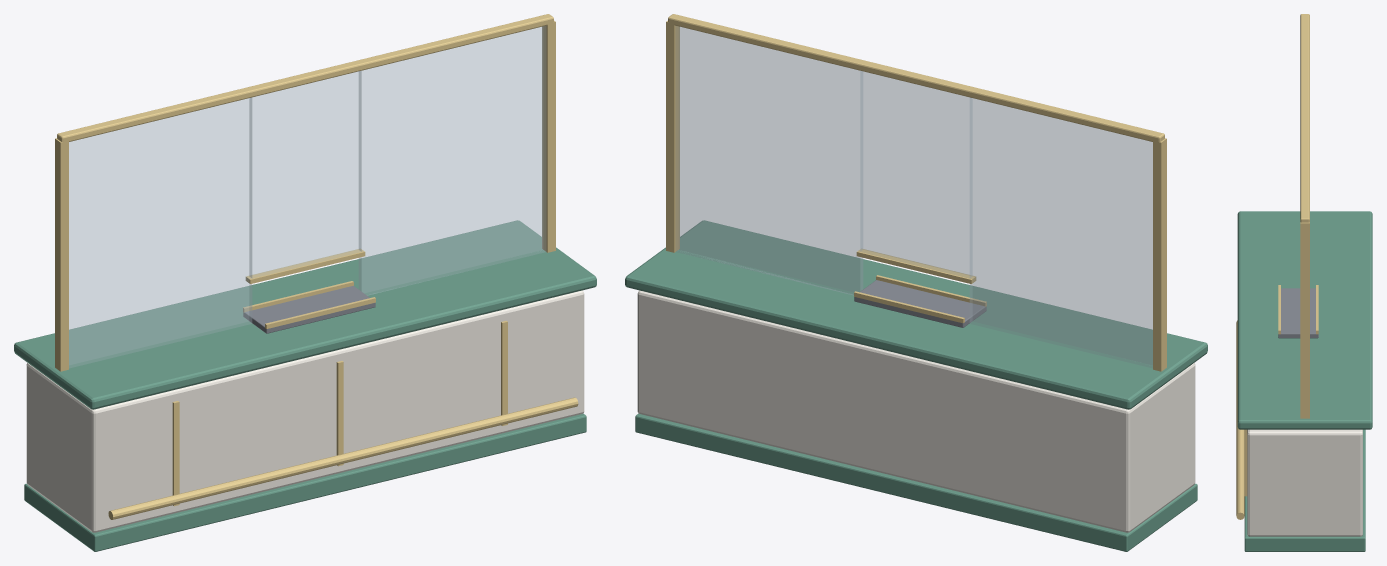
The model's file is prop_counter.glb.
3 views of the same model, side by side, from view 1: azimuth 30°, elevation 25°; view 2: azimuth 150°, elevation 25°; view 3: azimuth 270°, elevation 25° (orthographic). The views are drawn at different scales.
Parts seen in each view (by area): view 1: Counter, Glass; view 2: Counter, Glass; view 3: Counter.
Part boxes in pixels (x1,y1,x2,y2): Counter: [14, 14, 596, 551]; Glass: [69, 26, 546, 367]; Counter: [625, 14, 1207, 551]; Glass: [675, 26, 1152, 367]; Counter: [1236, 14, 1372, 551].
Bounding box in the file's own units: 3.7 × 2.74 × 1.01.
